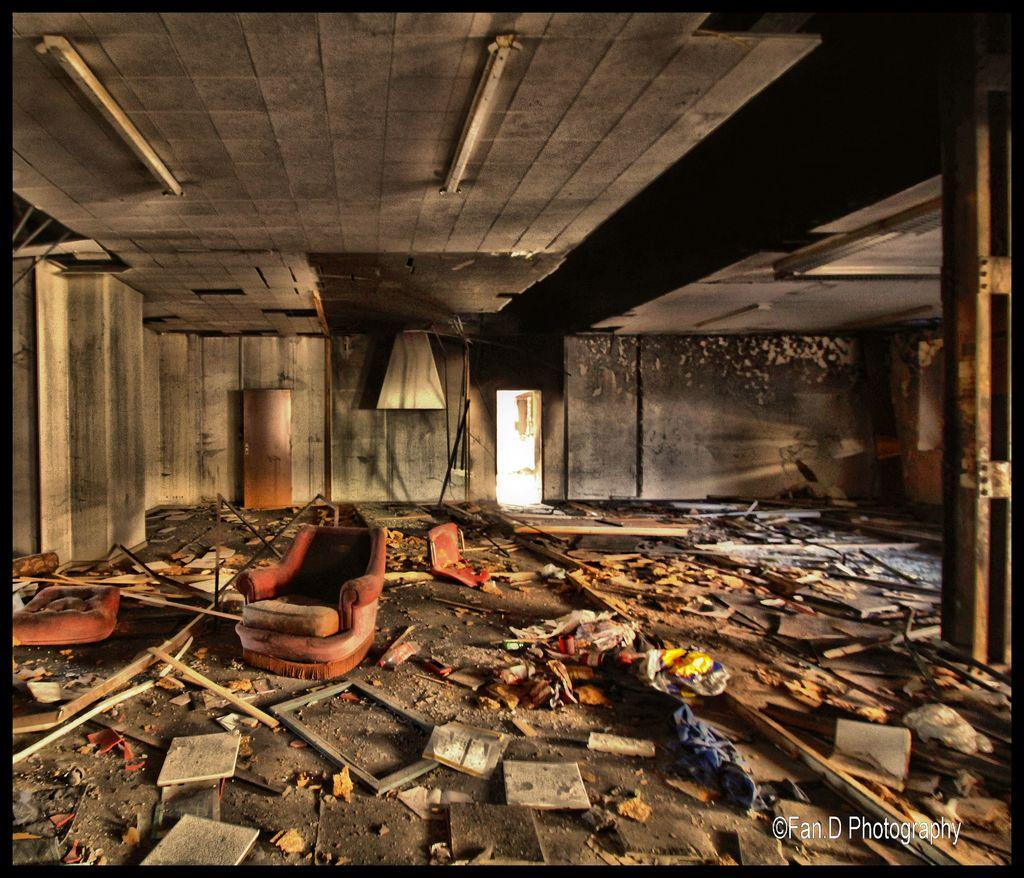Chair: (223, 511, 381, 689)
